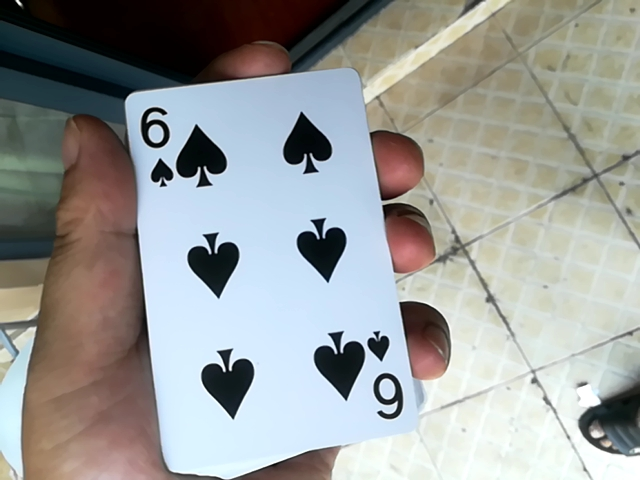ht 6: (123, 65, 411, 473)
